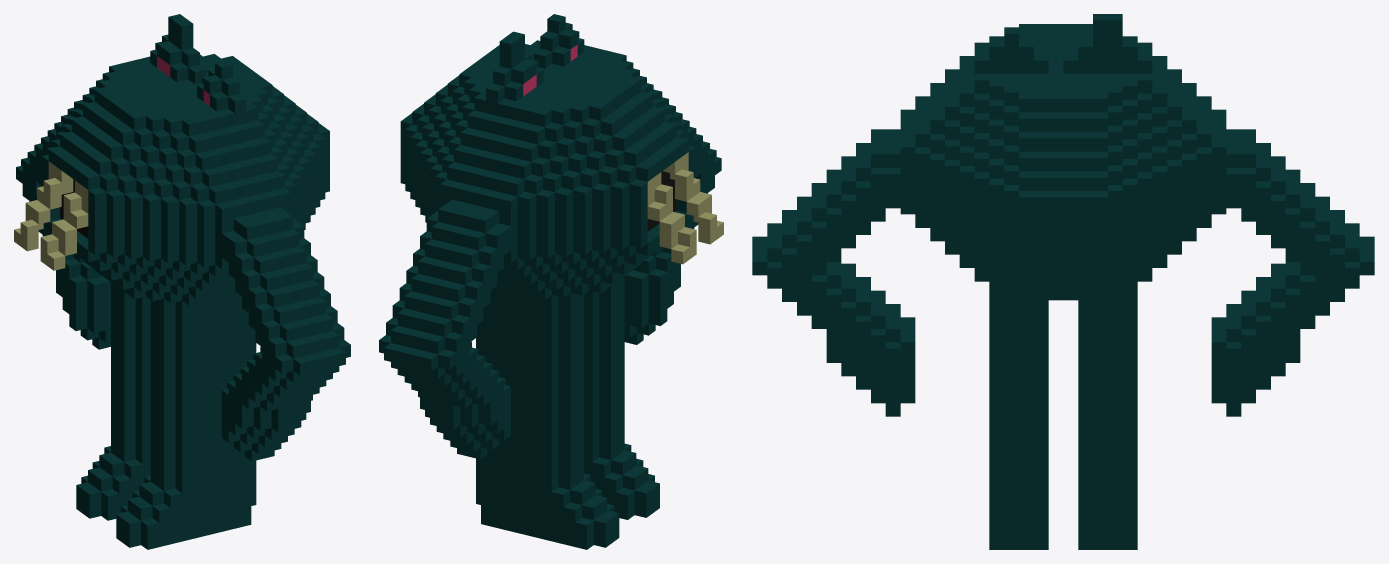
The model's file is one-eyed monster.vox.obj.
3 views of the same model, side by side, from view 1: azimuth 30°, elevation 25°; view 2: azimuth 150°, elevation 25°; view 3: azimuth 270°, elevation 25° (orthographic). The views are drawn at different scales.
Size of the model in its own units: 2.4 by 3.9 by 4.2.
Materials: 1 (1 with a texture image).
